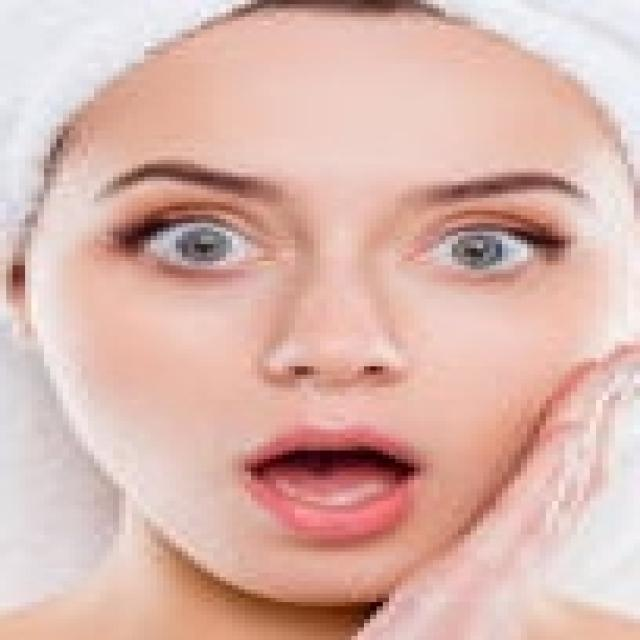Anxiety: (22, 3, 640, 604)
